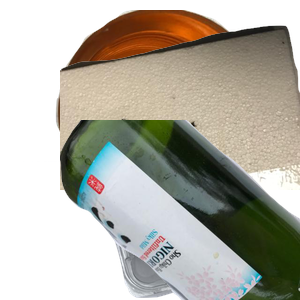glass: (60, 120, 300, 300)
metal: (53, 10, 293, 190)
plastic: (23, 161, 263, 300)
trash: (60, 23, 300, 203)
